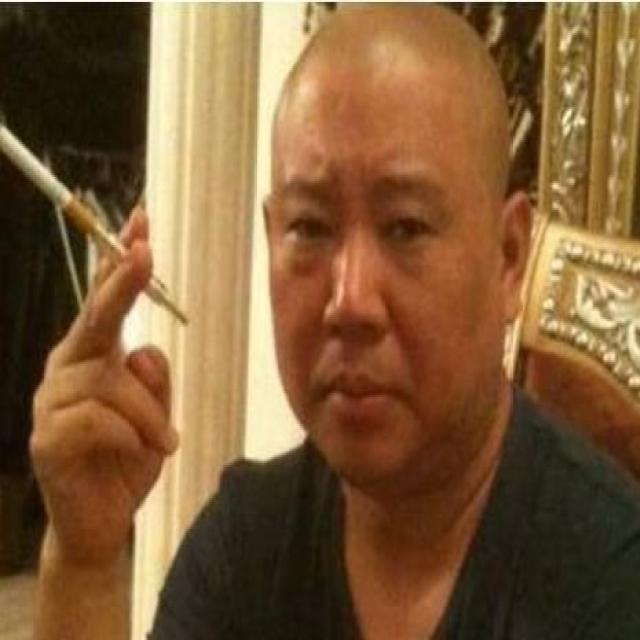cigarette: (3, 109, 220, 366)
